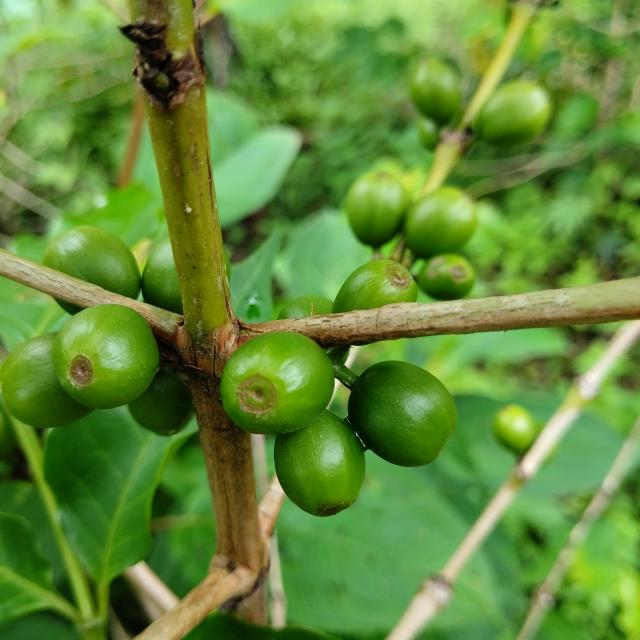green: (220, 332, 335, 435), (348, 361, 457, 467), (51, 305, 159, 409), (274, 410, 365, 517), (0, 332, 91, 428), (42, 225, 140, 299), (405, 187, 478, 258), (332, 259, 418, 313), (128, 367, 193, 436), (141, 239, 183, 314), (418, 254, 476, 300), (278, 295, 333, 319), (54, 298, 82, 315), (223, 248, 230, 281), (343, 351, 349, 361)
